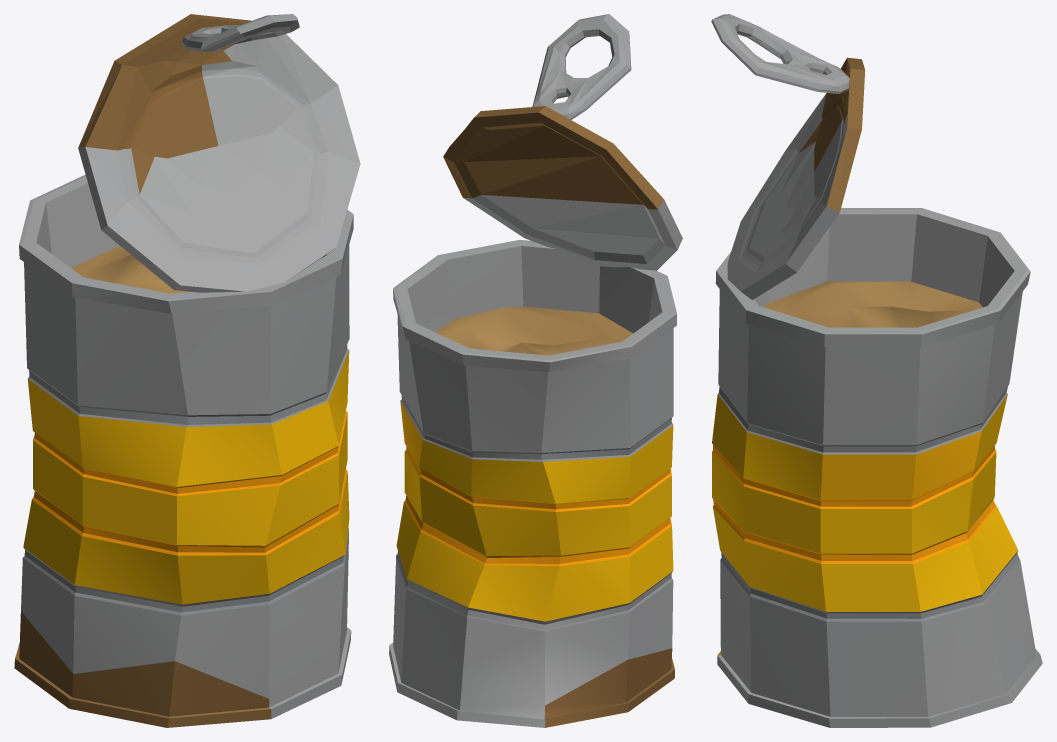
The model's file is open can with food.obj.
3 views of the same model, side by side, from view 1: azimuth 30°, elevation 25°; view 2: azimuth 150°, elevation 25°; view 3: azimuth 270°, elevation 25° (orthographic). The views are drawn at different scales.
Parts seen in each view (by area): view 1: can_Material, tab_Material, lid_Material; view 2: can_Material, tab_Material, lid_Material; view 3: can_Material, tab_Material, lid_Material.
Boxes of the visible parts, <box> form: can_Material: <box>14,174,353,727</box>; tab_Material: <box>78,14,360,292</box>; lid_Material: <box>182,14,299,51</box>; can_Material: <box>389,240,676,727</box>; tab_Material: <box>443,106,682,270</box>; lid_Material: <box>532,14,631,119</box>; can_Material: <box>712,208,1042,727</box>; tab_Material: <box>727,57,865,299</box>; lid_Material: <box>711,14,849,93</box>.
Size of the model in its own units: 0.1046 by 0.2491 by 0.1158.
